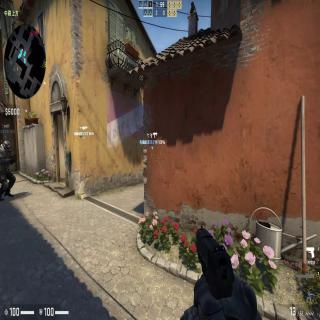CT-Body: (0, 141, 16, 204)
